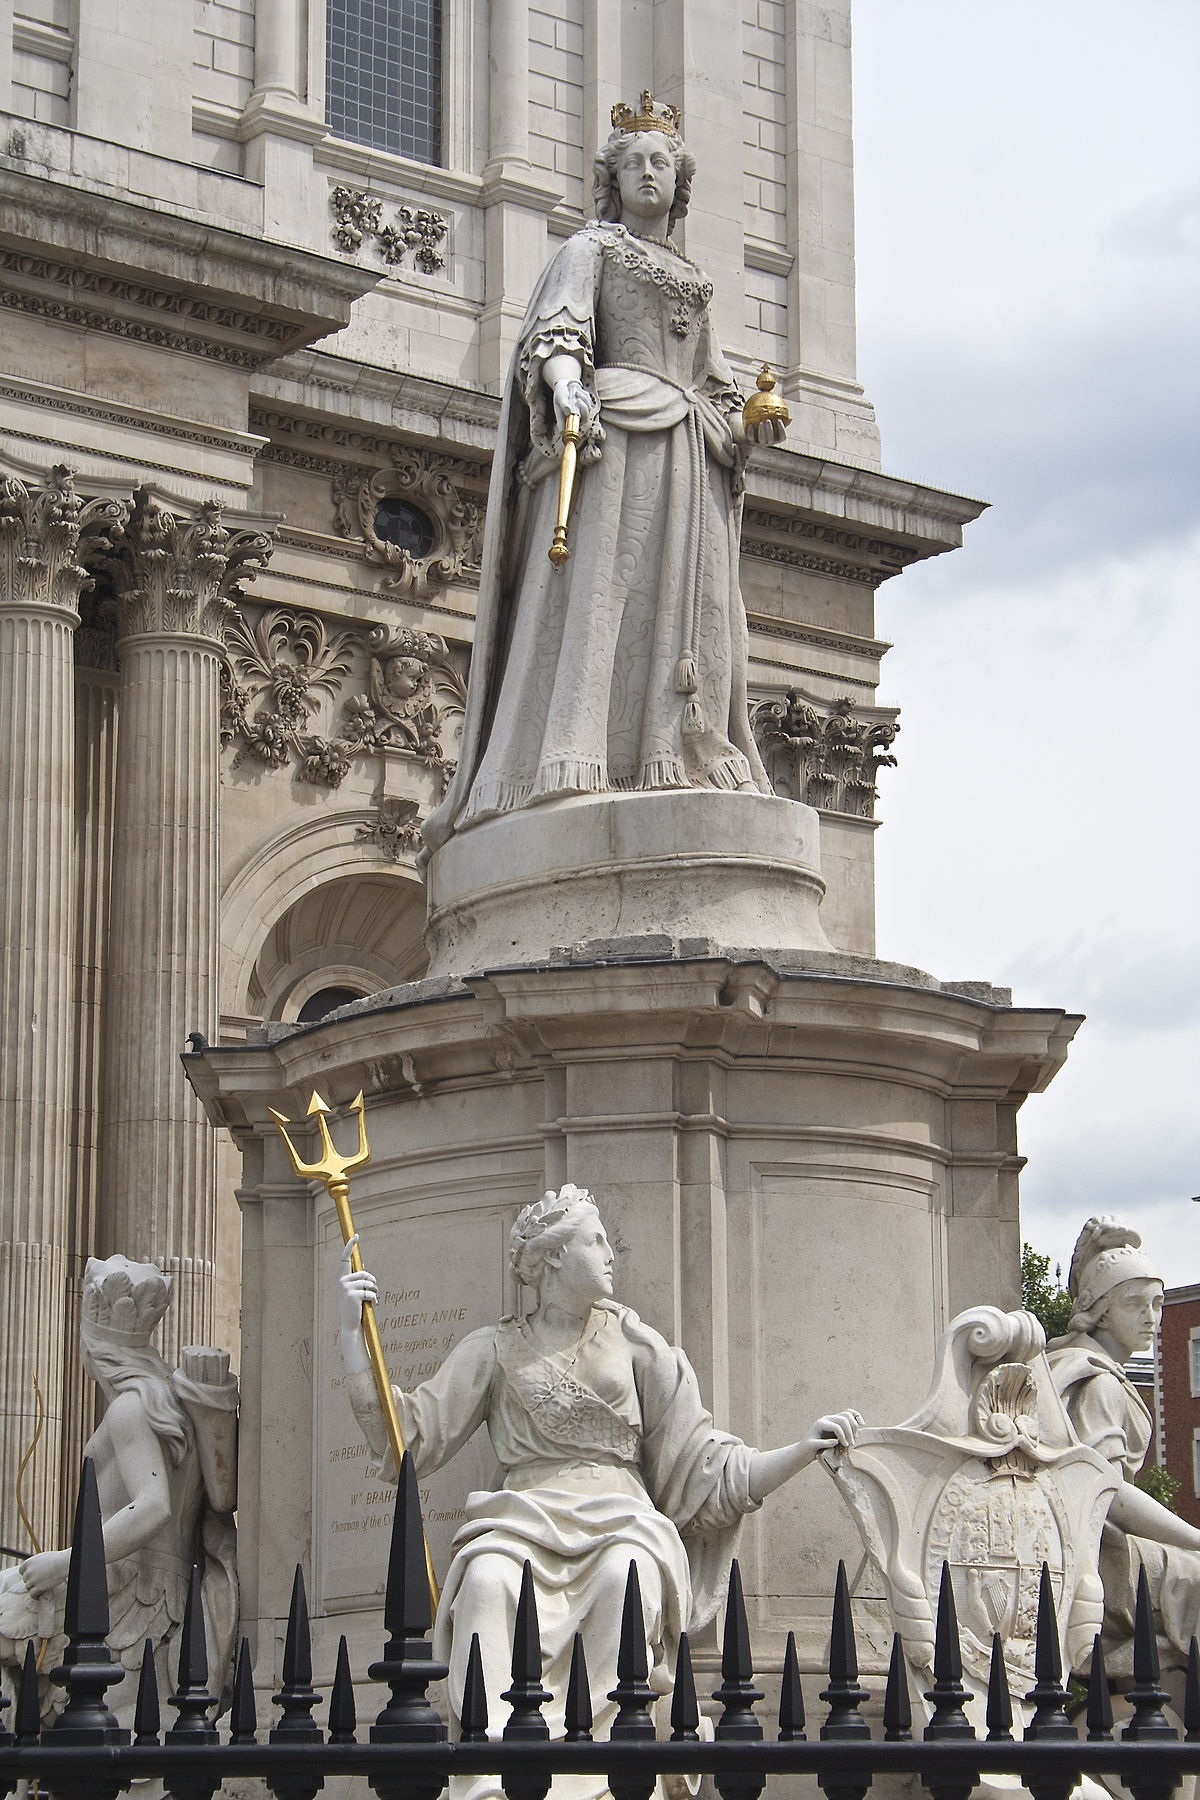person-like: (329, 1176, 868, 1755), (415, 78, 798, 816), (2, 1243, 235, 1696), (1035, 1208, 1200, 1700)
